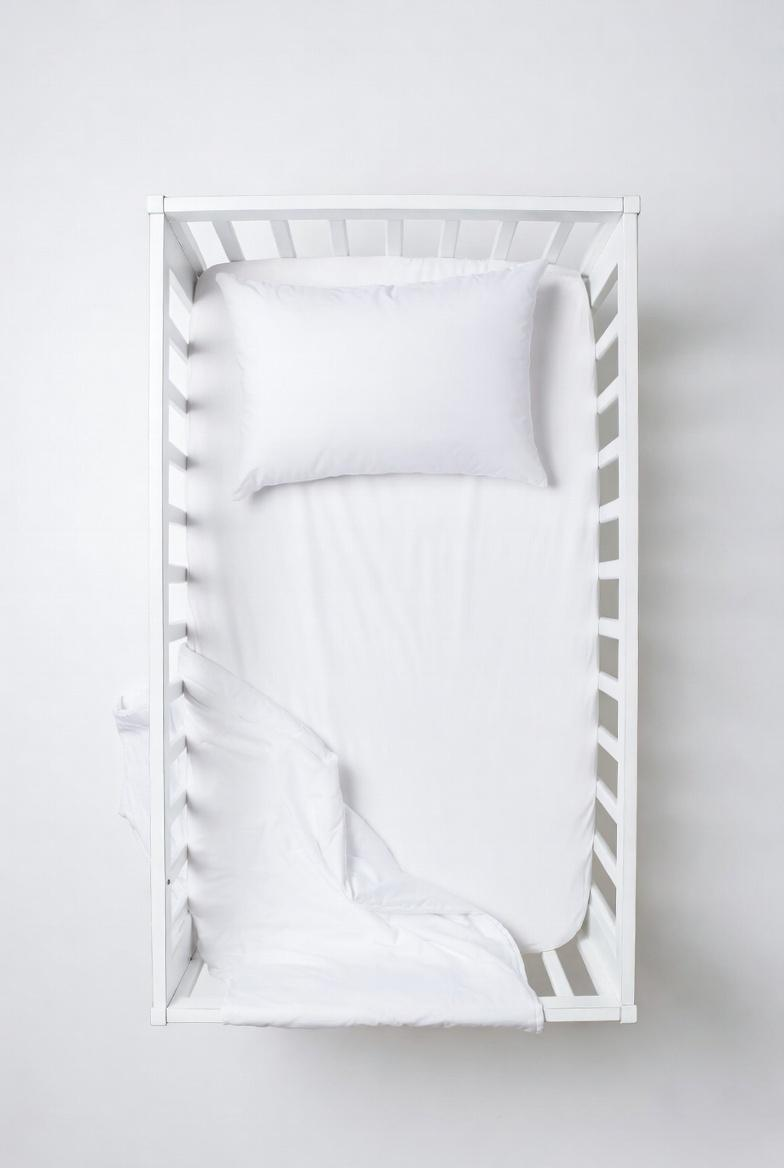crib: (148, 196, 639, 1024)
